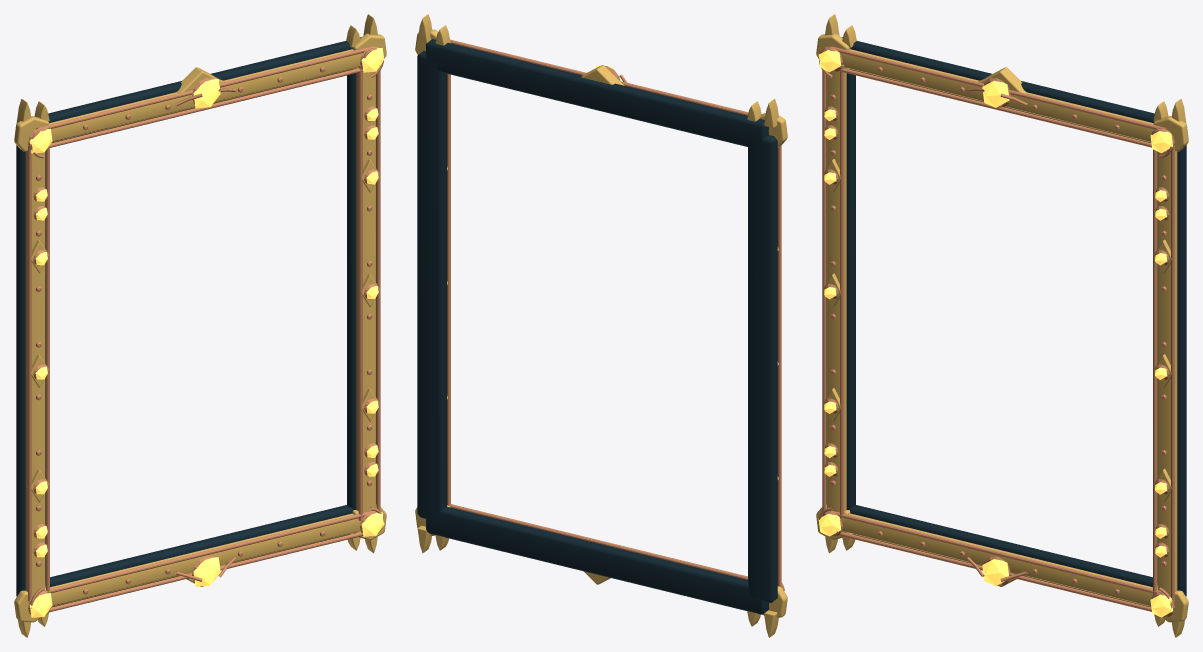
File: card-legendary.glb
The picture shows the model from 3 angles, left to right: view 1: azimuth 30°, elevation 25°; view 2: azimuth 150°, elevation 25°; view 3: azimuth 330°, elevation 25°; orthographic projection.
Parts seen in each view (by area): view 1: card-legendary / Frame | warm cathedral gold, card-legendary / Frame | burnished copper, card-legendary / Frame | ink enamel recess, card-legendary / Gem | amber sunstone; view 2: card-legendary / Frame | ink enamel recess, card-legendary / Frame | burnished copper, card-legendary / Frame | warm cathedral gold; view 3: card-legendary / Frame | warm cathedral gold, card-legendary / Frame | burnished copper, card-legendary / Frame | ink enamel recess, card-legendary / Gem | amber sunstone.
Boxes of the visible parts, bbox=[...] form: card-legendary / Frame | warm cathedral gold: bbox=[14, 14, 386, 637]; card-legendary / Frame | burnished copper: bbox=[28, 46, 383, 617]; card-legendary / Frame | ink enamel recess: bbox=[16, 37, 376, 607]; card-legendary / Gem | amber sunstone: bbox=[30, 47, 384, 617]; card-legendary / Frame | ink enamel recess: bbox=[417, 39, 777, 614]; card-legendary / Frame | burnished copper: bbox=[447, 39, 784, 590]; card-legendary / Frame | warm cathedral gold: bbox=[415, 14, 787, 637]; card-legendary / Frame | warm cathedral gold: bbox=[816, 14, 1188, 637]; card-legendary / Frame | burnished copper: bbox=[819, 46, 1174, 617]; card-legendary / Frame | ink enamel recess: bbox=[826, 37, 1186, 606]; card-legendary / Gem | amber sunstone: bbox=[818, 50, 1172, 617].
Bounding box in the file's own units: 6.61 × 9.16 × 0.5822.
